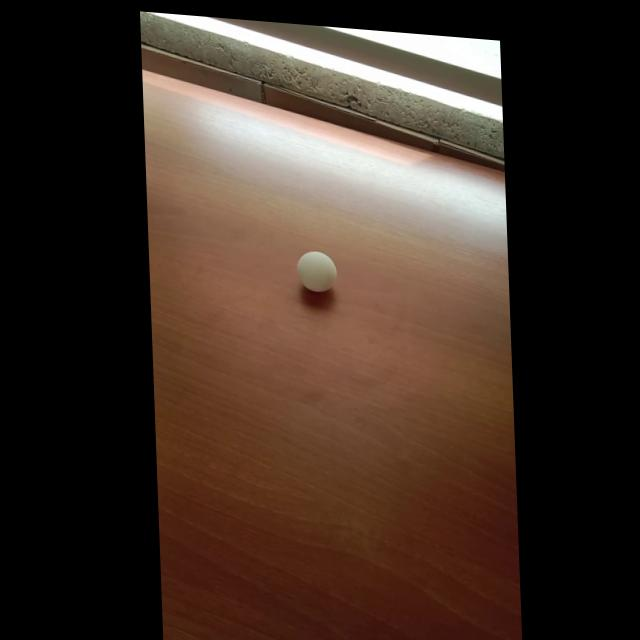white ball: (296, 248, 338, 294)
